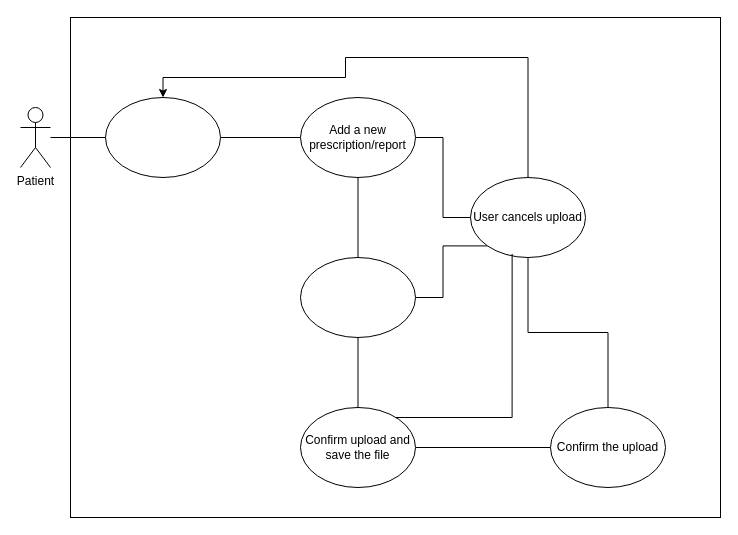
Some shapes in this 738 by 535 pixel diagram are drawn without their labels. Here are the shapes that lost their labels. From the top down, the centre of each, then its label:
[162,137]: Navigate to prescription/ report section
[358,297]: Choose the file to upload
